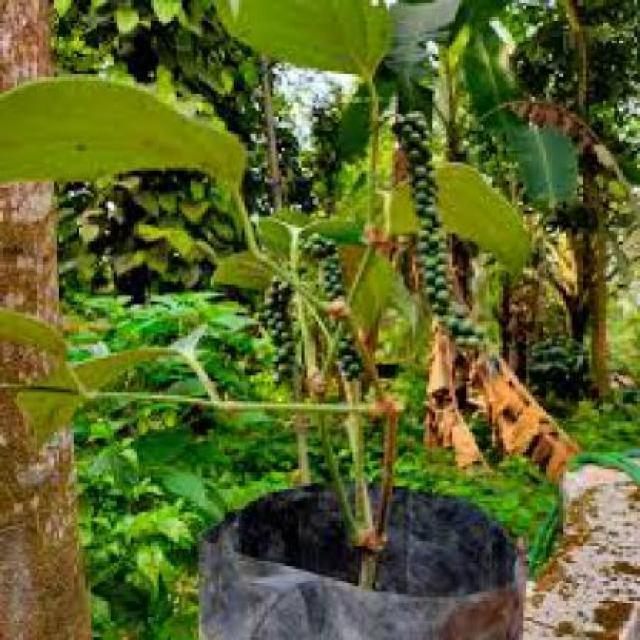UNRIPE: (378, 111, 481, 351), (308, 236, 372, 378), (262, 268, 296, 382)
